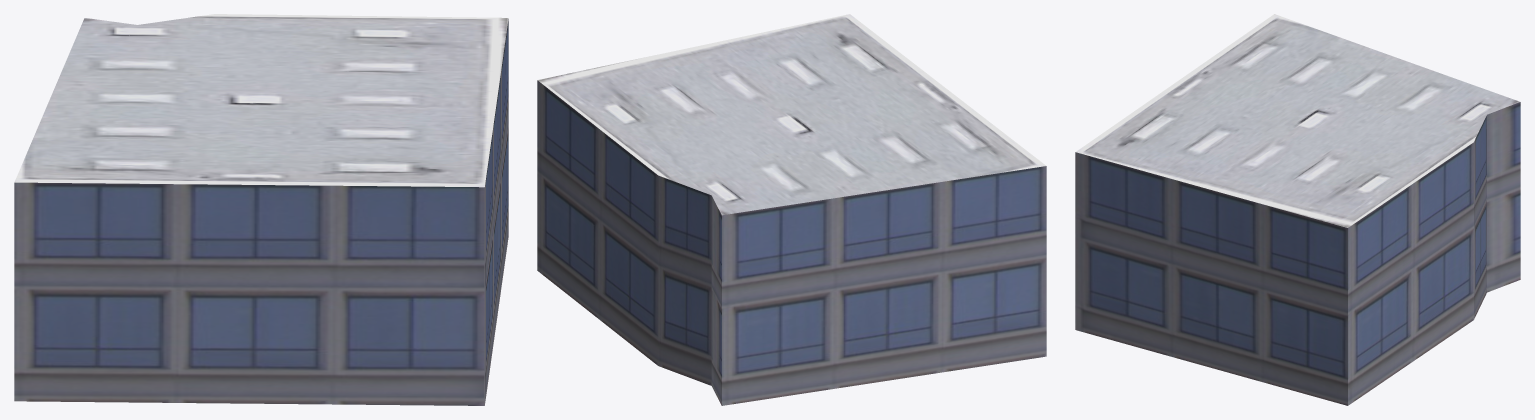
File: RelTex__23.fbx
3 renders of one model, left to right at view 1: azimuth 30°, elevation 25°; view 2: azimuth 150°, elevation 25°; view 3: azimuth 270°, elevation 25°, orthographic. The views are drawn at different scales.
Parts seen in each view (by area): view 1: CityEngineMaterial_1_m, CityEngineMaterial_32_m; view 2: CityEngineMaterial_1_m, CityEngineMaterial_32_m; view 3: CityEngineMaterial_1_m, CityEngineMaterial_32_m.
Boxes of the visible parts, x1,y1,x2,y2 form: CityEngineMaterial_1_m: (14, 19, 508, 405); CityEngineMaterial_32_m: (14, 14, 508, 187); CityEngineMaterial_1_m: (537, 80, 1046, 405); CityEngineMaterial_32_m: (537, 14, 1045, 215); CityEngineMaterial_1_m: (1075, 102, 1520, 405); CityEngineMaterial_32_m: (1076, 14, 1519, 227).
Bounding box in the file's own units: 15.48 × 6 × 13.6.
Materials: 2 (2 with a texture image).
